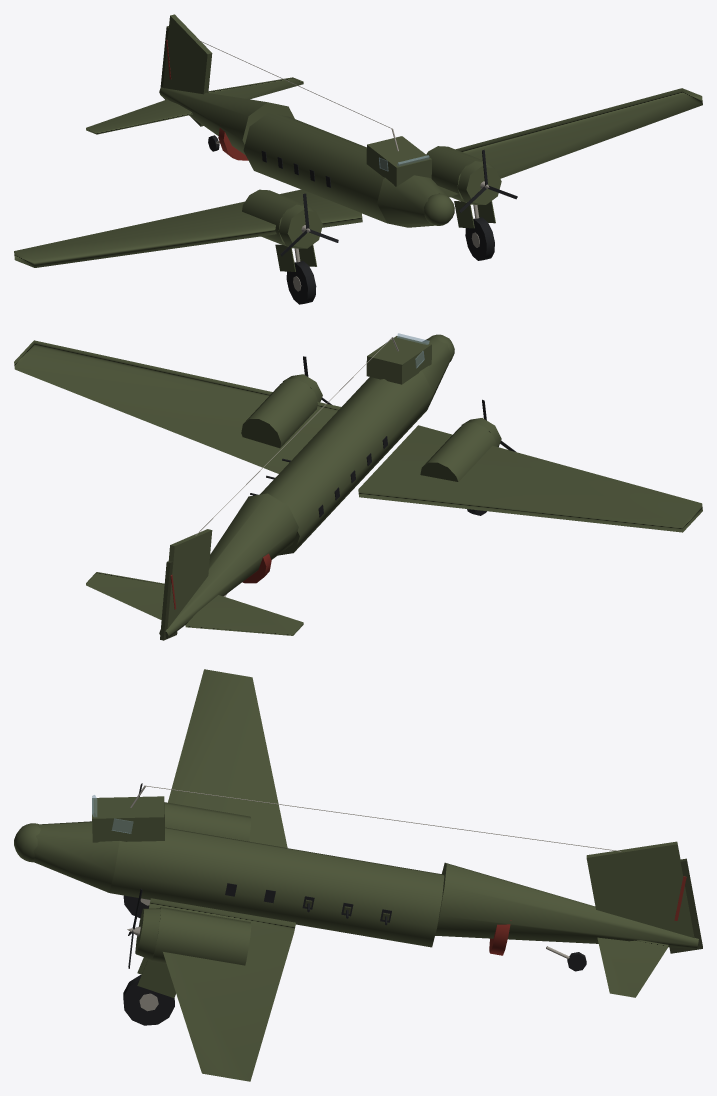
File: ac-47-spooky-gunship.glb
3 renders of one model, top to bottom at view 1: azimuth 30°, elevation 25°; view 2: azimuth 150°, elevation 25°; view 3: azimuth 270°, elevation 25°, orthographic. The views are drawn at different scales.
Parts seen in each view (by area): view 1: Mesh_MainWingRight, Mesh_Cabin, Mesh_MainWingLeft, Mesh_TailTaper, Mesh_Fin, Mesh_NoseTaper, Mesh_CockpitCab, Mesh_TailWingRight, Mesh_EngineNacelle_L, Mesh_EngineNacelle_R, Mesh_EngineCowl_R, Mesh_EngineCowl_L (+4 smaller); view 2: Mesh_MainWingRight, Mesh_MainWingLeft, Mesh_Cabin, Mesh_TailTaper, Mesh_EngineNacelle_L, Mesh_TailWingRight, Mesh_Fin, Mesh_EngineNacelle_R, Mesh_CockpitCab, Mesh_TailWingLeft, Mesh_NoseTaper, Mesh_Rudder; view 3: Mesh_Cabin, Mesh_MainWingLeft, Mesh_MainWingRight, Mesh_TailTaper, Mesh_Fin, Mesh_EngineNacelle_L, Mesh_NoseTaper, Mesh_CockpitCab, Mesh_TailWingLeft, Mesh_EngineNacelle_R, Mesh_WheelL, Mesh_EngineCowl_L (+3 smaller).
Part boxes in pixels (x1,y1,x2,y2): Mesh_MainWingRight: [14, 189, 362, 267]; Mesh_Cabin: [243, 112, 386, 222]; Mesh_MainWingLeft: [438, 88, 702, 197]; Mesh_TailTaper: [159, 87, 294, 154]; Mesh_Fin: [163, 14, 212, 126]; Mesh_NoseTaper: [377, 175, 446, 227]; Mesh_CockpitCab: [366, 136, 431, 187]; Mesh_TailWingRight: [86, 99, 192, 134]; Mesh_EngineNacelle_L: [426, 146, 487, 204]; Mesh_EngineNacelle_R: [242, 189, 308, 248]; Mesh_EngineCowl_R: [278, 204, 322, 248]; Mesh_EngineCowl_L: [457, 161, 501, 204]; Mesh_MainWingRight: [358, 425, 702, 532]; Mesh_MainWingLeft: [14, 340, 341, 473]; Mesh_Cabin: [260, 371, 433, 555]; Mesh_TailTaper: [159, 493, 298, 638]; Mesh_EngineNacelle_L: [241, 379, 317, 448]; Mesh_TailWingRight: [185, 595, 303, 635]; Mesh_Fin: [167, 529, 212, 628]; Mesh_EngineNacelle_R: [420, 422, 497, 481]; Mesh_CockpitCab: [366, 336, 431, 384]; Mesh_TailWingLeft: [86, 572, 164, 619]; Mesh_NoseTaper: [421, 337, 452, 409]; Mesh_Rudder: [160, 561, 177, 640]; Mesh_Cabin: [109, 827, 444, 947]; Mesh_MainWingLeft: [149, 898, 295, 1081]; Mesh_MainWingRight: [168, 669, 287, 847]; Mesh_TailTaper: [435, 862, 698, 948]; Mesh_Fin: [586, 841, 694, 937]; Mesh_EngineNacelle_L: [152, 907, 251, 965]; Mesh_NoseTaper: [31, 821, 119, 892]; Mesh_CockpitCab: [92, 796, 164, 842]; Mesh_TailWingLeft: [597, 937, 668, 997]; Mesh_EngineNacelle_R: [164, 802, 251, 841]; Mesh_WheelL: [123, 975, 174, 1025]; Mesh_EngineCowl_L: [135, 908, 160, 959].
Size of the model in its own units: 28.4 by 6.21 by 20.98.
Materials: 2 (2 with a texture image).
